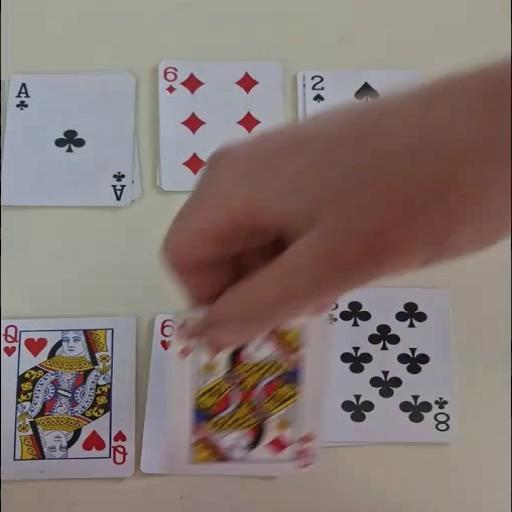2: (308, 73, 326, 103)
6: (160, 64, 179, 95)
8: (430, 395, 452, 432)
A: (108, 169, 128, 201), (11, 80, 31, 111)
Q: (106, 427, 128, 466), (0, 322, 20, 360)
